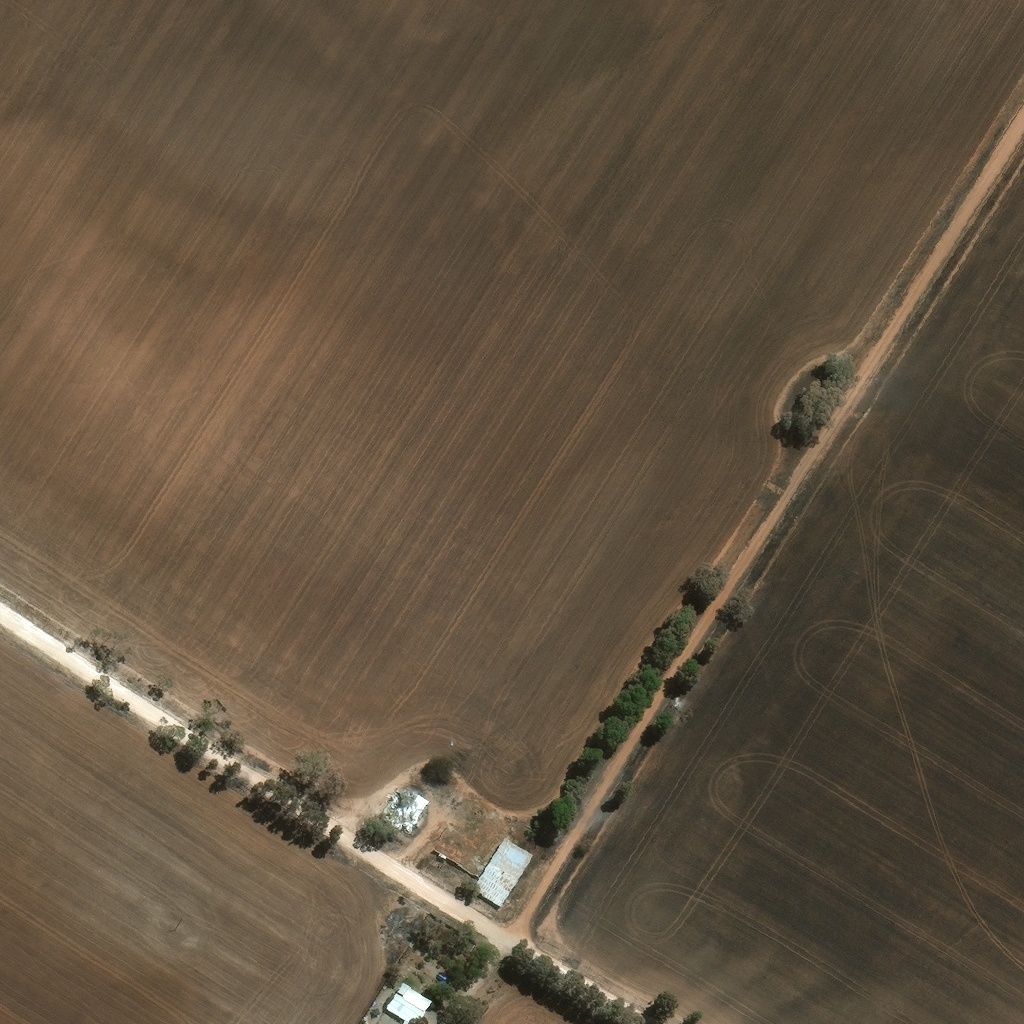0 no-damage: (471, 836, 534, 907), (385, 984, 433, 1023)
3 destroyed: (380, 789, 426, 834)
4 un-classified: (377, 1014, 399, 1023)
